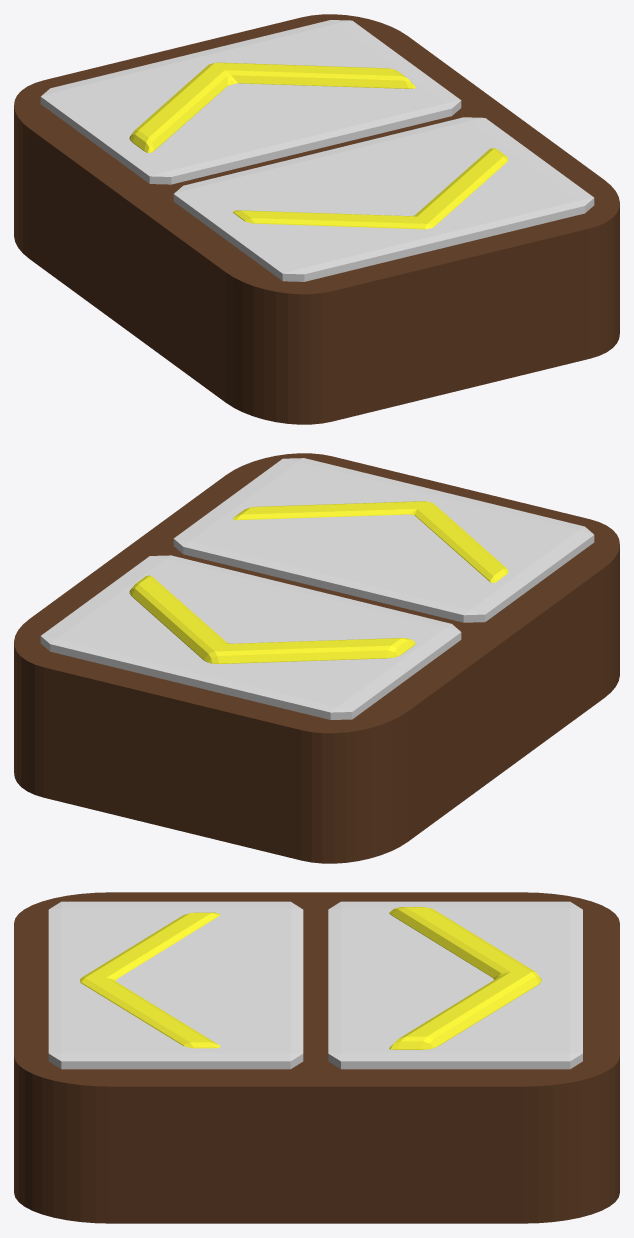
The model's file is bpm2.glb.
3 renders of one model, top to bottom at view 1: azimuth 30°, elevation 25°; view 2: azimuth 150°, elevation 25°; view 3: azimuth 270°, elevation 25°, orthographic. The views are drawn at different scales.
Parts seen in each view (by area): view 1: Base, ButtonRight, ButtonLeft, Left, Right; view 2: Base, ButtonRight, ButtonLeft, Left, Right; view 3: Base, ButtonRight, ButtonLeft, Left, Right.
Part boxes in pixels (bbox=[...]): Base: bbox=[14, 14, 619, 424]; ButtonRight: bbox=[173, 117, 594, 281]; ButtonLeft: bbox=[40, 20, 461, 184]; Left: bbox=[129, 62, 415, 152]; Right: bbox=[232, 148, 508, 229]; Base: bbox=[14, 453, 619, 863]; ButtonRight: bbox=[173, 458, 594, 622]; ButtonLeft: bbox=[40, 555, 461, 719]; Left: bbox=[129, 575, 415, 663]; Right: bbox=[232, 501, 508, 582]; Base: bbox=[14, 892, 619, 1223]; ButtonRight: bbox=[48, 901, 303, 1069]; ButtonLeft: bbox=[328, 901, 582, 1069]; Left: bbox=[389, 907, 541, 1049]; Right: bbox=[80, 912, 220, 1048].
Bounding box in the file's own units: 2 × 0.742 × 2.64.
